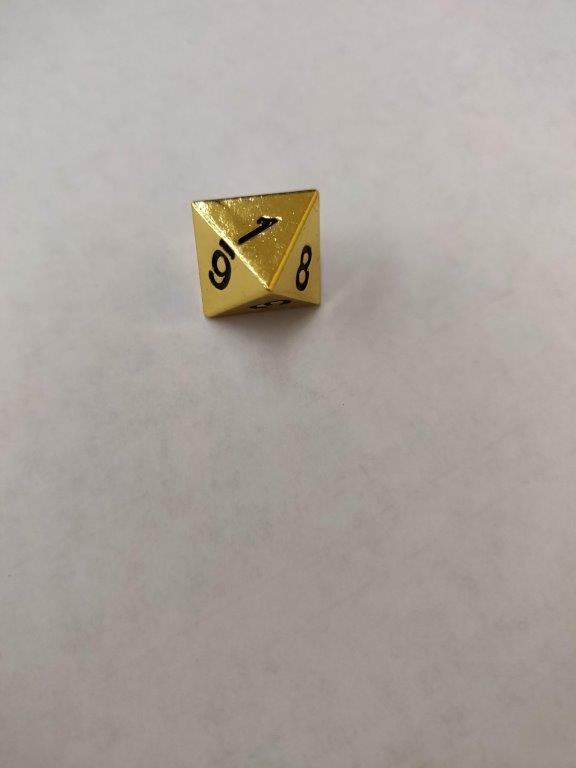d8-1: (192, 187, 323, 322)
